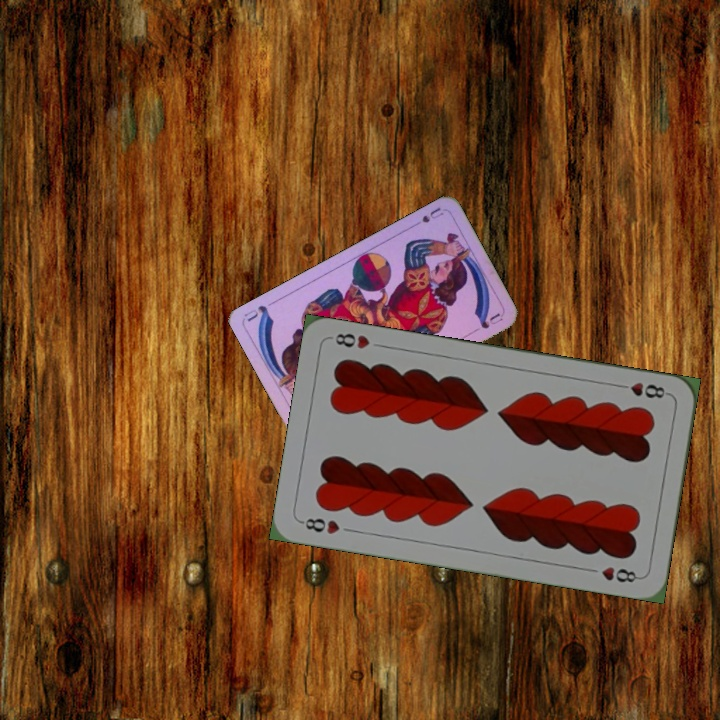H8: (613, 378, 672, 401), (296, 514, 343, 537)
SU: (408, 203, 446, 230)
